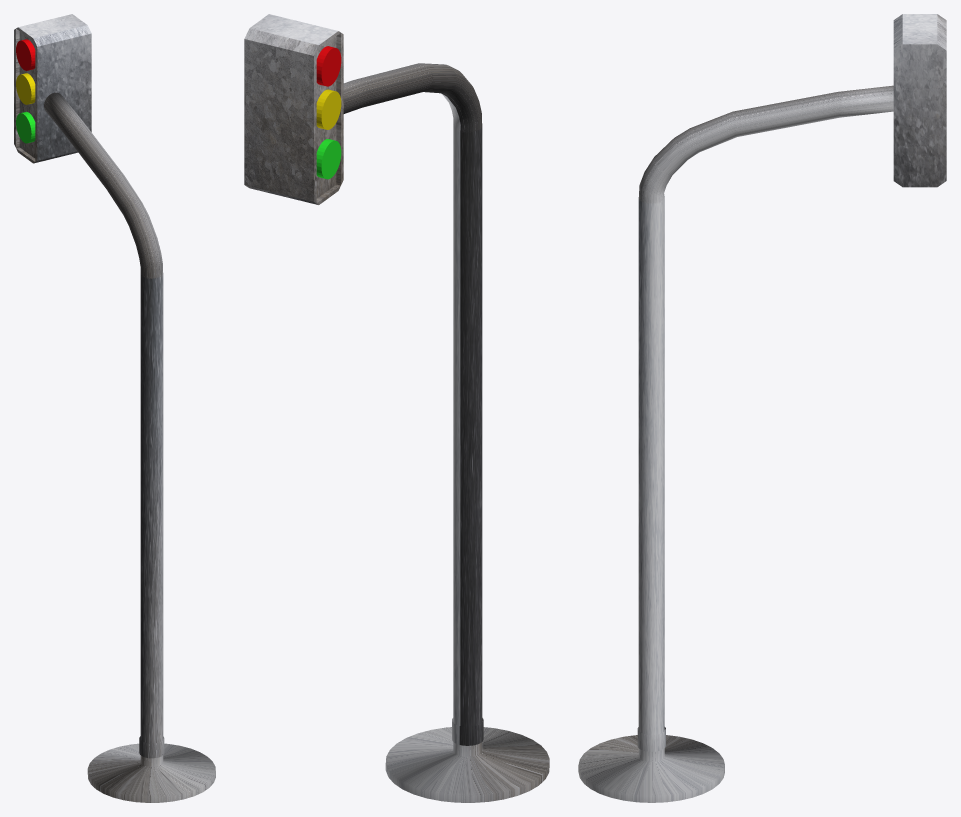
The model's file is Trafficlights1.fbx.
The picture shows the model from 3 angles, left to right: view 1: azimuth 30°, elevation 25°; view 2: azimuth 150°, elevation 25°; view 3: azimuth 270°, elevation 25°; orthographic projection. The views are drawn at different scales.
Visible parts, largest first — view 1: Trafficlights1; view 2: Trafficlights1; view 3: Trafficlights1.
Part boxes in pixels (x1,y1,x2,y2): Trafficlights1: [14, 14, 215, 802]; Trafficlights1: [244, 14, 549, 802]; Trafficlights1: [578, 14, 946, 802].
Size of the model in its own units: 117 by 662 by 293.
Materials: 4 (1 with a texture image).
